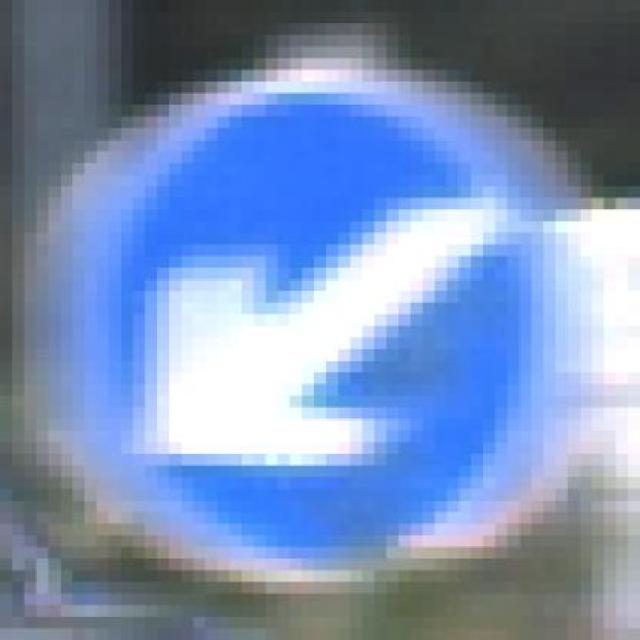Keep-Left: (72, 46, 580, 594)
